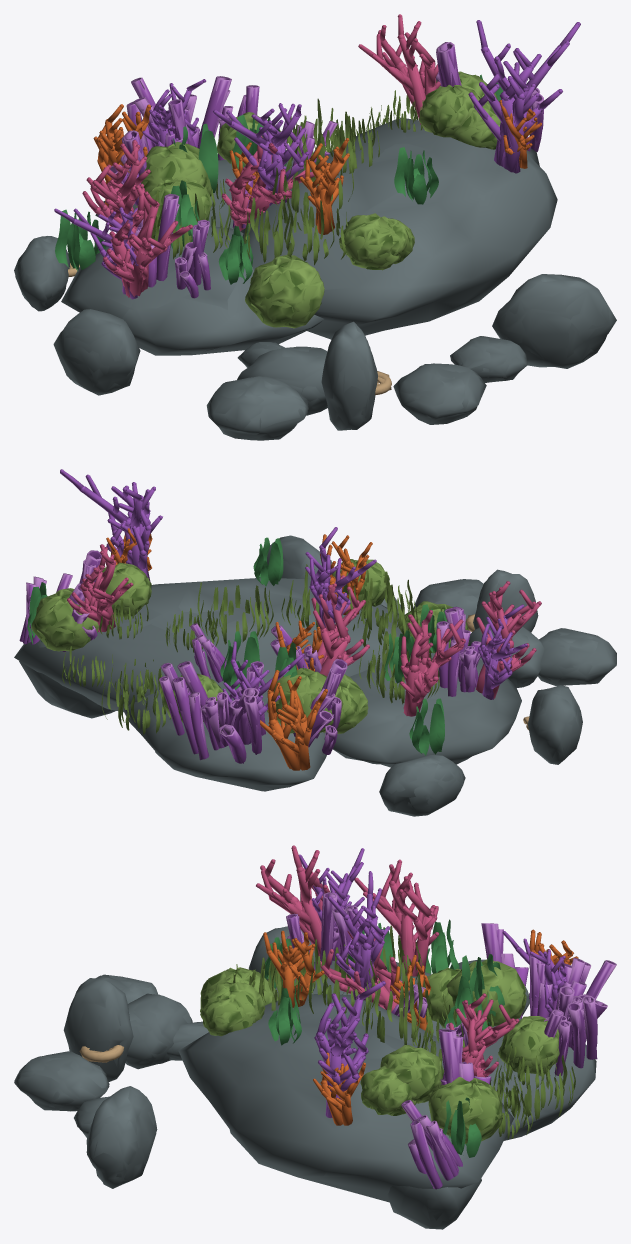
3 renders of one model, top to bottom at view 1: azimuth 30°, elevation 25°; view 2: azimuth 150°, elevation 25°; view 3: azimuth 270°, elevation 25°, orthographic. The views are drawn at different scales.
Visible parts, largest first — view 1: patch_rock, patch_coral, patch_rock_low, patch_coral_low, patch_vegetation, patch_vegetation_low; view 2: patch_coral, patch_rock, patch_rock_low, patch_coral_low, patch_vegetation, patch_vegetation_low; view 3: patch_coral, patch_rock, patch_rock_low, patch_coral_low, patch_vegetation, patch_vegetation_low.
Part boxes in pixels (x1,y1,x2,y2): patch_rock: (14,120,616,440); patch_coral: (54,14,580,395); patch_rock_low: (15,117,611,440); patch_coral_low: (55,14,580,390); patch_vegetation: (55,78,503,284); patch_vegetation_low: (55,74,500,283); patch_coral: (20,469,541,770); patch_rock: (14,535,616,816); patch_rock_low: (15,537,616,816); patch_coral_low: (19,469,540,769); patch_vegetation: (27,538,449,755); patch_vegetation_low: (27,537,450,752); patch_coral: (81,845,616,1189); patch_rock: (14,926,593,1229); patch_rock_low: (14,926,596,1229); patch_coral_low: (79,845,612,1188); patch_vegetation: (232,920,575,1157); patch_vegetation_low: (233,919,575,1157).
Bounding box in the file's own units: 7.91 × 3.26 × 7.75.
